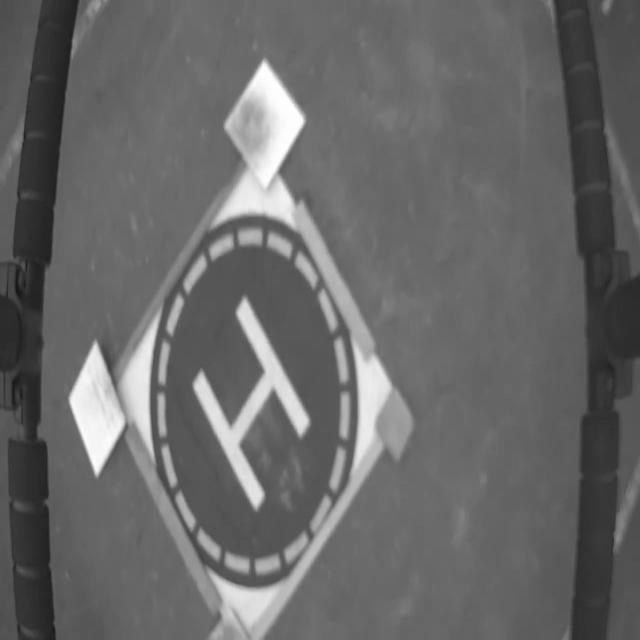Helipad: (193, 297, 311, 513)
